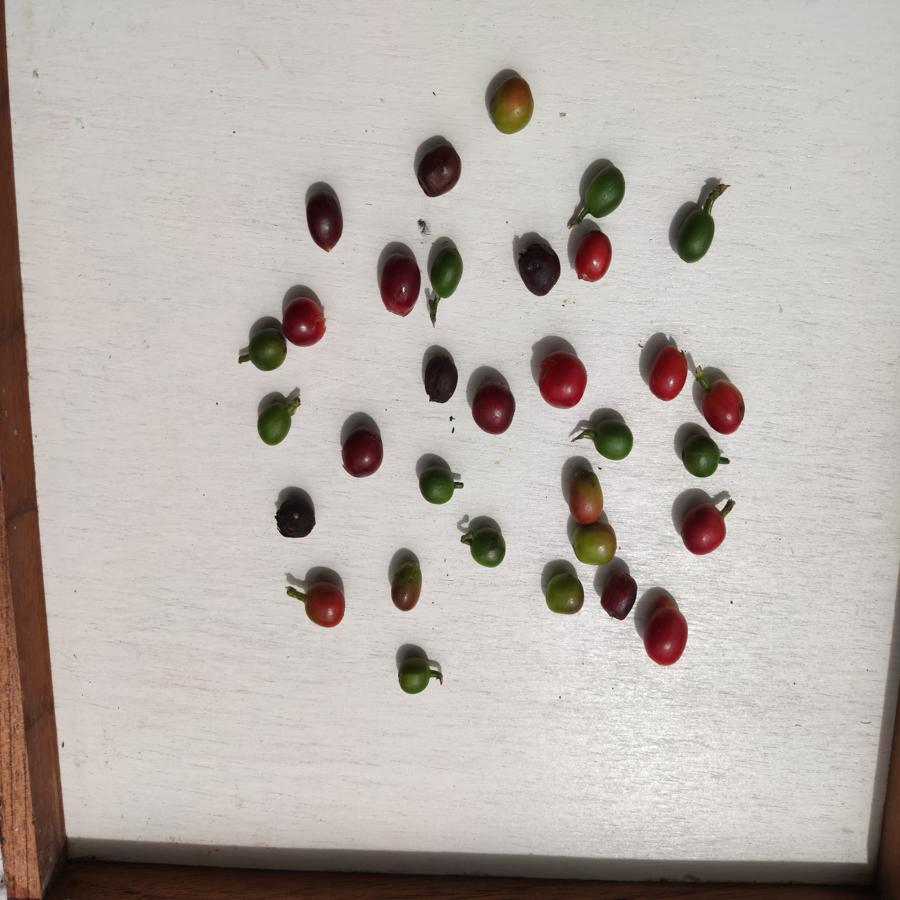Inmaduro: (673, 205, 717, 264), (583, 166, 625, 220), (592, 418, 637, 463), (678, 435, 723, 478), (429, 247, 464, 301), (247, 329, 285, 375), (254, 403, 294, 445), (417, 467, 456, 506), (468, 529, 507, 567), (397, 655, 431, 698)
Maduro: (537, 351, 591, 411), (700, 379, 748, 437), (643, 606, 689, 666), (644, 343, 689, 402), (679, 503, 729, 555), (281, 296, 331, 347), (573, 229, 614, 281)
Pinton: (487, 74, 536, 134), (300, 582, 346, 631), (566, 470, 606, 524), (571, 525, 618, 566), (544, 573, 586, 615), (390, 561, 425, 611)
Sobremaduro: (413, 143, 462, 197), (380, 252, 420, 316), (515, 244, 562, 296), (339, 428, 383, 479), (307, 192, 345, 251), (471, 382, 514, 434), (273, 494, 317, 541), (422, 355, 461, 404), (599, 569, 638, 617)
